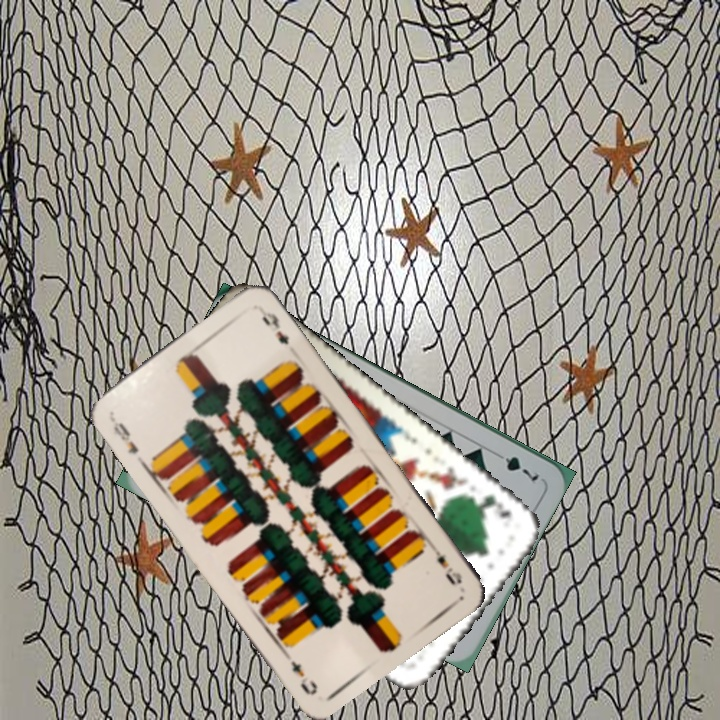E9: (425, 539, 465, 588), (109, 416, 141, 457)
G7: (489, 447, 542, 484)
GK: (467, 490, 515, 521)
